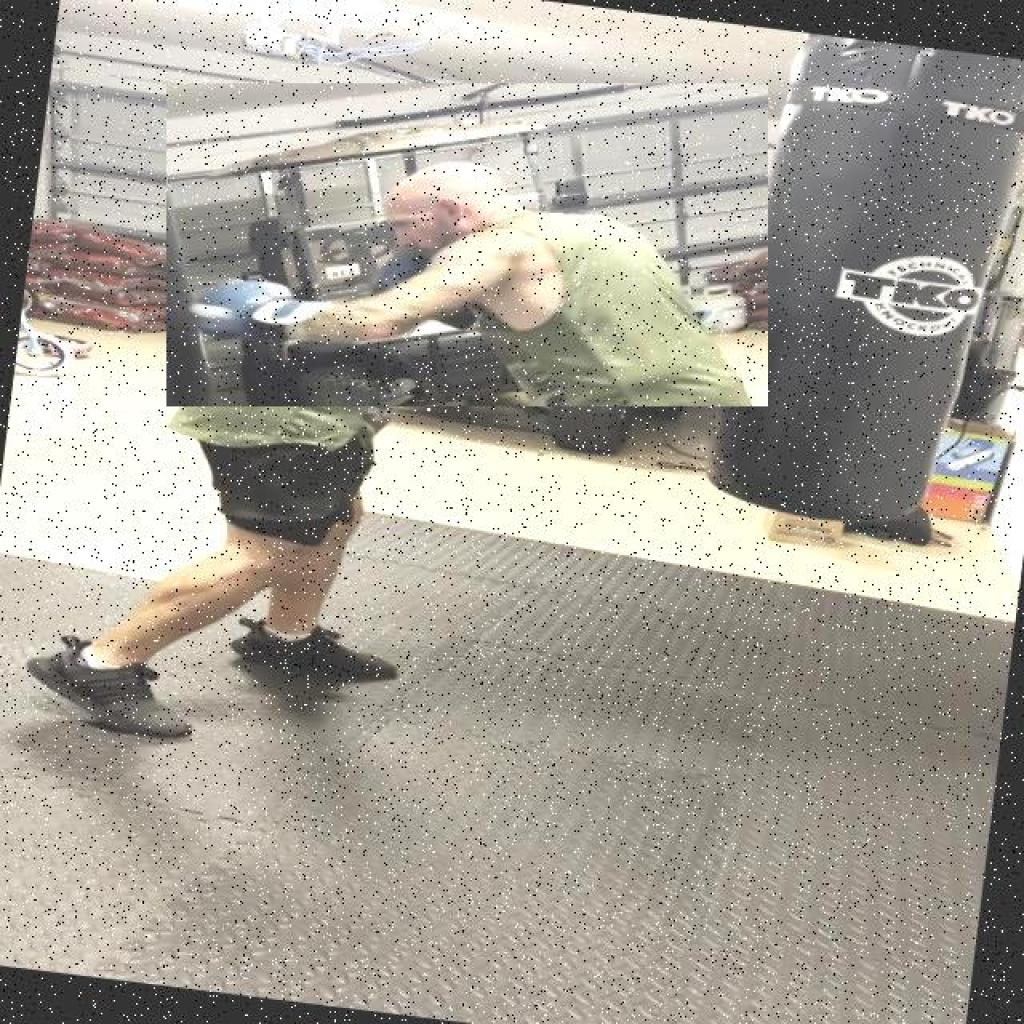bag: (723, 30, 1005, 541)
cross: (166, 84, 768, 406)
